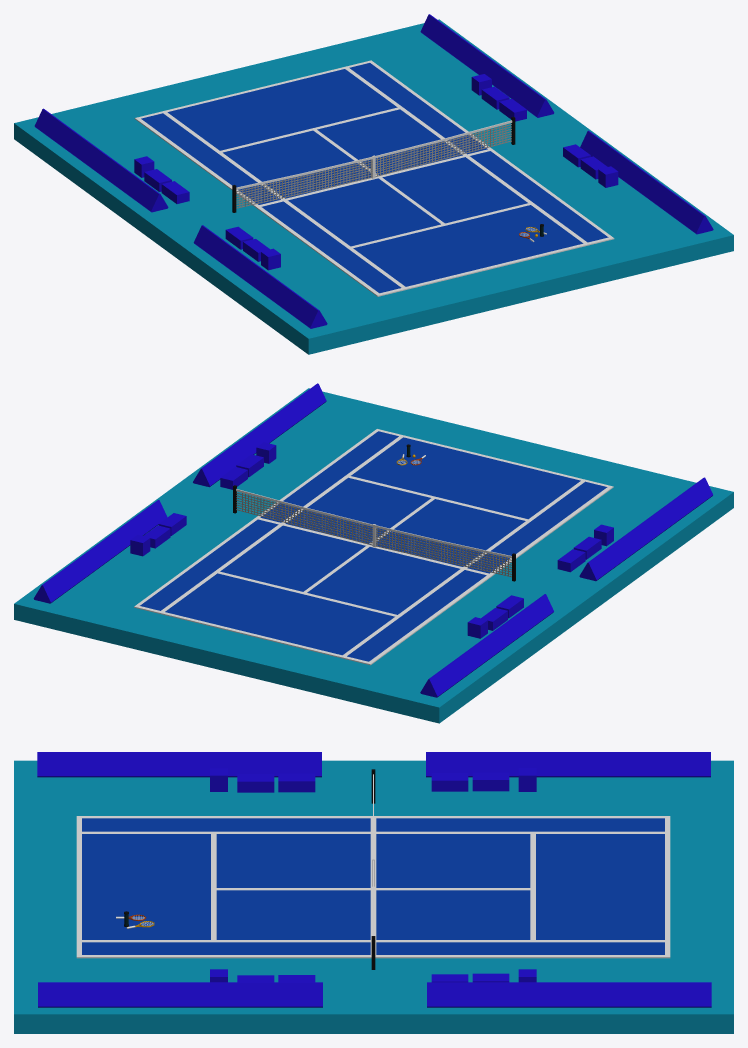
The model's file is court.fbx.
3 renders of one model, top to bottom at view 1: azimuth 30°, elevation 25°; view 2: azimuth 150°, elevation 25°; view 3: azimuth 270°, elevation 25°, orthographic. The views are drawn at different scales.
Parts seen in each view (by area): view 1: Box172, Plane034, Plane035, Box173, Box189, Box190, Box175; view 2: Box172, Plane034, Plane035, Box173, Box189, Box190, Box175; view 3: Box172, Plane034, Box175, Box190, Box173, Box189, Box179, Box180, Box177, Box182.
Boxes of the visible parts, x1=… form: Box172: x1=14, y1=19, x2=733, y2=354; Plane034: x1=134, y1=60, x2=614, y2=296; Plane035: x1=236, y1=120, x2=512, y2=208; Box173: x1=193, y1=225, x2=327, y2=328; Box189: x1=34, y1=108, x2=168, y2=212; Box190: x1=420, y1=14, x2=554, y2=117; Box175: x1=580, y1=130, x2=713, y2=234; Box172: x1=14, y1=388, x2=733, y2=723; Plane034: x1=134, y1=429, x2=613, y2=665; Plane035: x1=236, y1=489, x2=511, y2=577; Box173: x1=579, y1=477, x2=712, y2=581; Box189: x1=420, y1=594, x2=553, y2=697; Box190: x1=33, y1=500, x2=167, y2=603; Box175: x1=193, y1=383, x2=326, y2=487; Box172: x1=14, y1=760, x2=733, y2=1033; Plane034: x1=76, y1=816, x2=670, y2=958; Box175: x1=38, y1=982, x2=322, y2=1007; Box190: x1=427, y1=982, x2=711, y2=1007; Box173: x1=37, y1=752, x2=321, y2=777; Box189: x1=426, y1=752, x2=710, y2=777; Box179: x1=278, y1=773, x2=315, y2=792; Box180: x1=472, y1=772, x2=509, y2=791; Box177: x1=237, y1=774, x2=274, y2=792; Box182: x1=431, y1=773, x2=468, y2=791.
Size of the model in its own units: 1669 by 164 by 2002.
